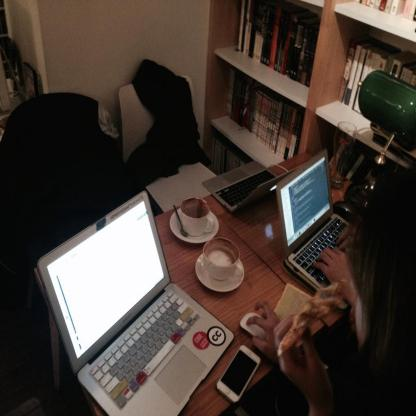board: (36, 191, 235, 416), (276, 147, 350, 291), (203, 161, 299, 212)
